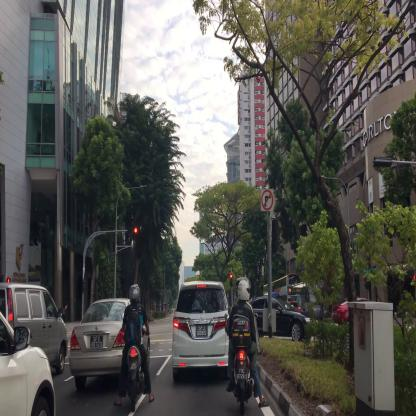red_traffic_light: (127, 227, 138, 233), (230, 272, 233, 286)
